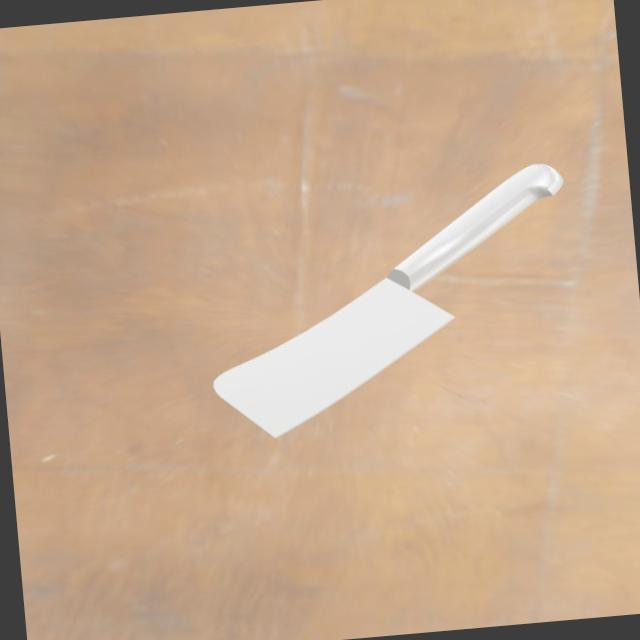knife: (380, 153, 582, 291)
